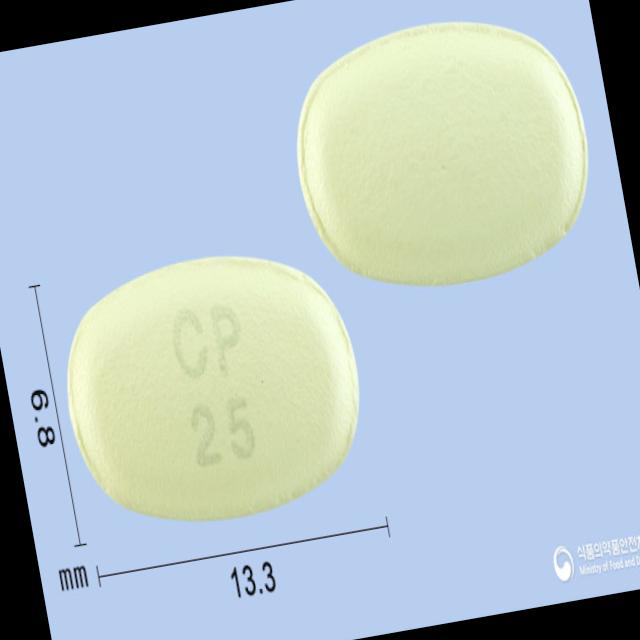Clarod: (44, 230, 382, 550)
